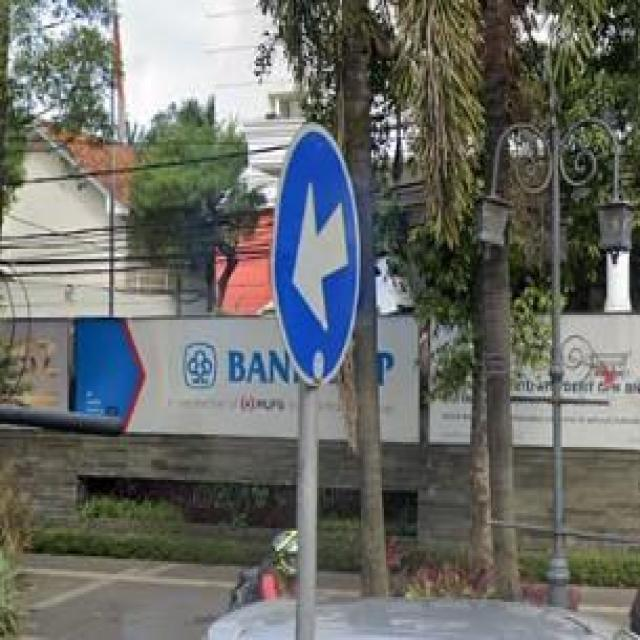traffic sign: (279, 122, 356, 383)
